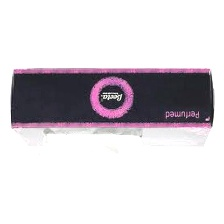book: (7, 64, 217, 150)
tissue: (30, 130, 145, 224)
